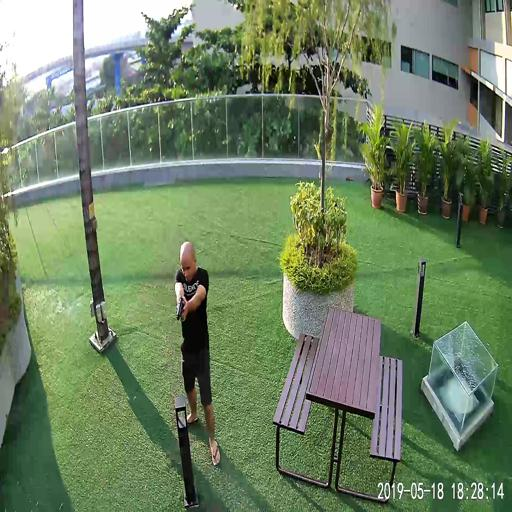pistol: (175, 293, 186, 320)
